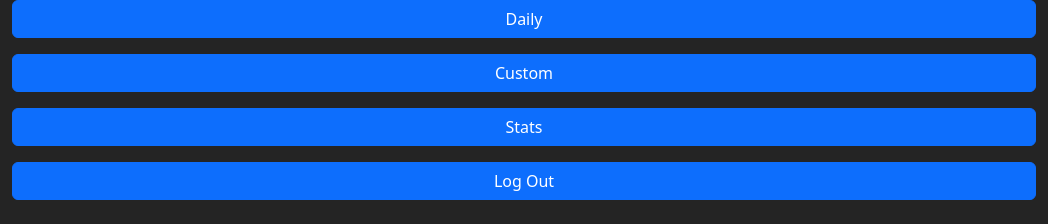
Test: Verify Home screen button functions › The stats screen is rendered
Simulate a click on the Link in Home
Click the link "Stats": (524, 127) [12, 108, 1036, 146]
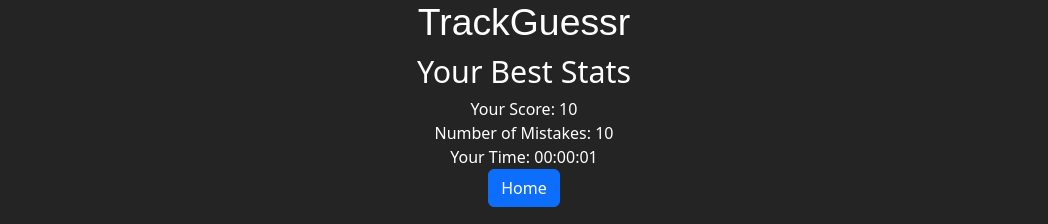
Expected: the text "Your Time: 00:00:01" is shown, [450, 146, 598, 168]
